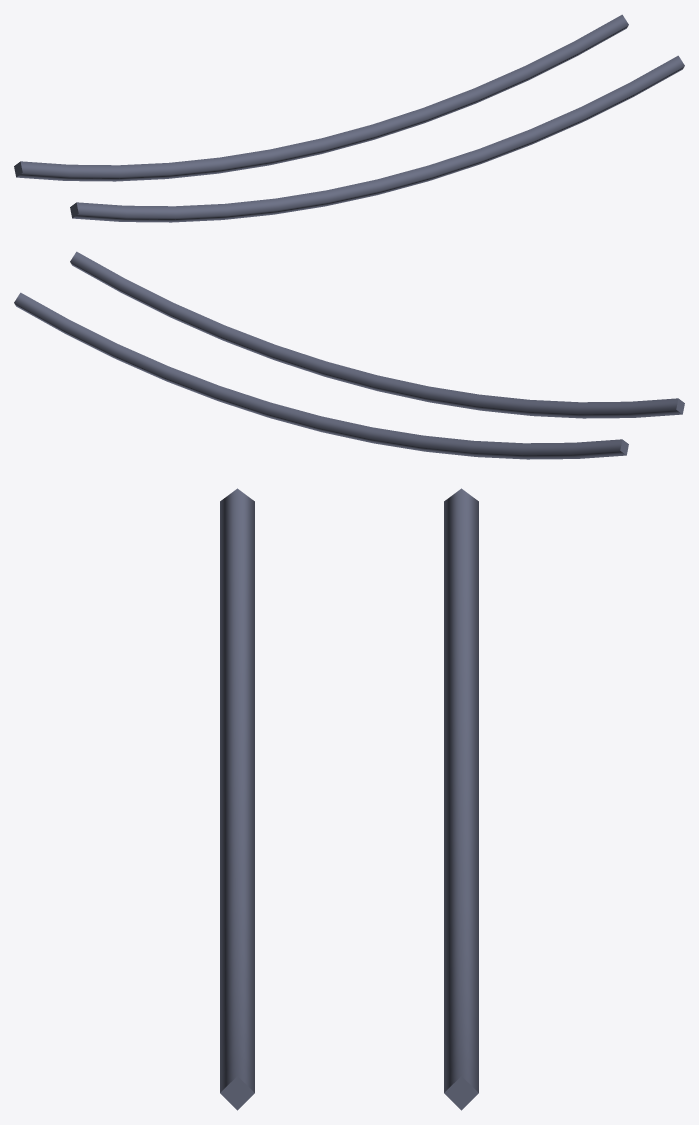
Rendered from electricity-wires-wide.glb.
The picture shows the model from 3 angles, top to bottom: view 1: azimuth 30°, elevation 25°; view 2: azimuth 150°, elevation 25°; view 3: azimuth 270°, elevation 25°; orthographic projection. The views are drawn at different scales.
Parts seen in each view (by area): view 1: electricity-wires-wide; view 2: electricity-wires-wide; view 3: electricity-wires-wide.
Part boxes in pixels (box(x1,y1,x2,y2)): electricity-wires-wide: box(14, 14, 684, 222); electricity-wires-wide: box(14, 251, 684, 459); electricity-wires-wide: box(220, 488, 478, 1110).
Size of the model in its own units: 1.01 by 0.1045 by 0.185.
Materials: 1 (1 with a texture image).
